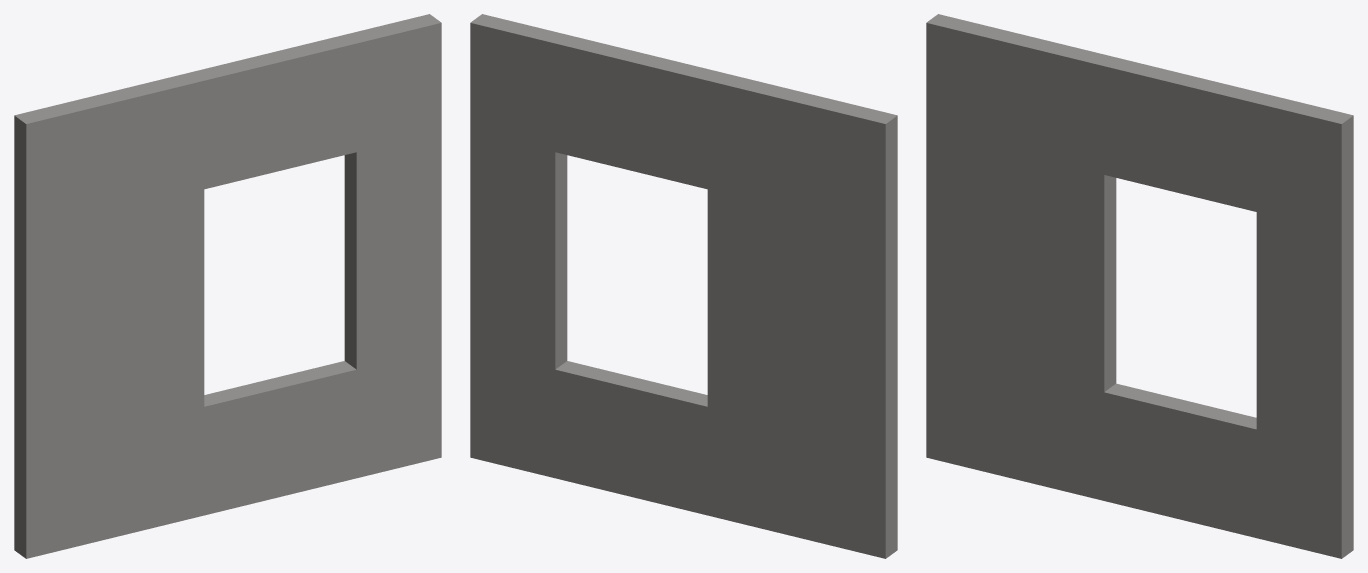
The model's file is Wal_2_D.fbx.
3 views of the same model, side by side, from view 1: azimuth 30°, elevation 25°; view 2: azimuth 150°, elevation 25°; view 3: azimuth 330°, elevation 25° (orthographic).
Visible parts, largest first — view 1: pCube36; view 2: pCube36; view 3: pCube36.
Boxes of the visible parts, <box> form: pCube36: <box>14,14,441,558</box>; pCube36: <box>470,14,897,558</box>; pCube36: <box>926,14,1353,558</box>.
Size of the model in its own units: 4 by 4 by 0.2.
Materials: 1 (1 with a texture image).
